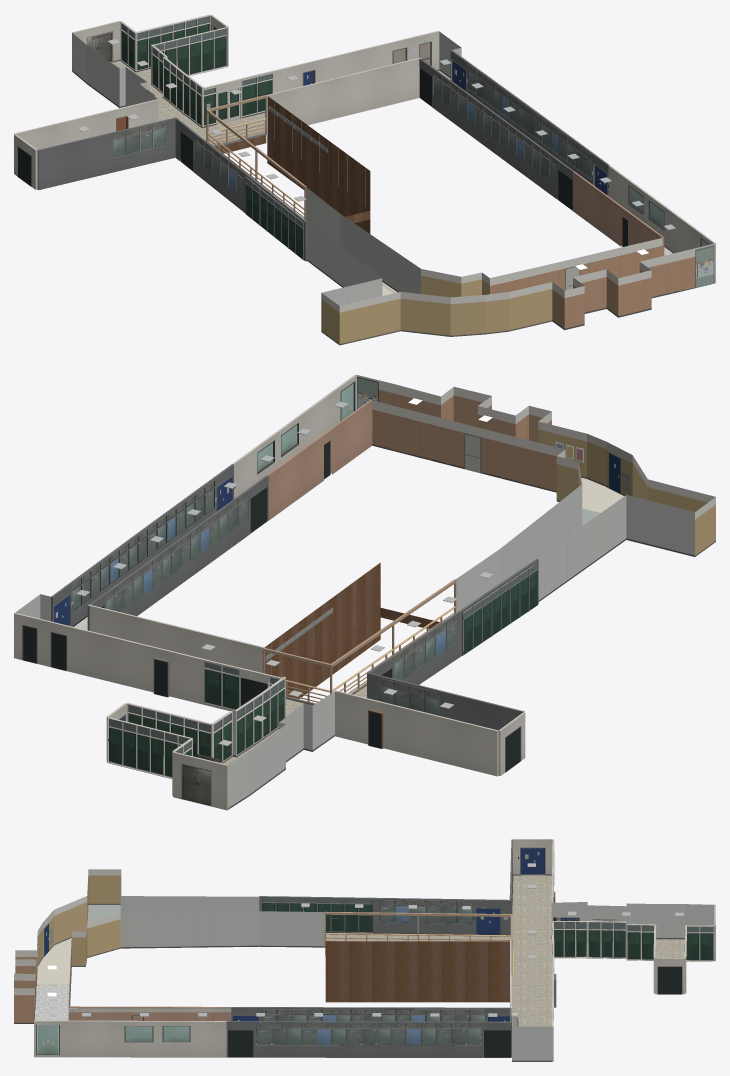
File: abc-corridor-2c2d1388.glb
The picture shows the model from 3 angles, top to bottom: view 1: azimuth 30°, elevation 25°; view 2: azimuth 150°, elevation 25°; view 3: azimuth 270°, elevation 25°; orthographic projection. The views are drawn at different scales.
Parts seen in each view (by area): view 1: ABC | Oat wall, ABC | Graphite panels, Surveyed side passages2, ABC | Green glass, Lobby ochre and artworks0, Atrium | opposite timber wall, Lobby ochre and artworks2, Short passage inner wall0, ABC | Anodized face, Short passage and lobby finishes0, ABC | Dark gasket, ABC | Pearl mullion (+17 smaller); view 2: ABC | Oat wall, Surveyed side passages2, ABC | Graphite panels, ABC | Green glass, Short passage inner wall0, Atrium | opposite timber wall, ABC | Dark gasket, ABC | Flush oak, Lobby ochre and artworks0, Surveyed side passages0, ABC | Anodized face, ABC | Pearl mullion (+19 smaller); view 3: Surveyed side passages2, Atrium | opposite timber wall, ABC | Oat wall, ABC | Graphite panels, Survey floor | stone, ABC | Green glass, Lobby ochre and artworks2, ABC | Anodized face, ABC | Dark gasket, ABC | Upper glass, railcentral wall, ABC | Classroom glass C (+19 smaller).
Part boxes in pixels (<box>): ABC | Oat wall: <box>14,15,715,283</box>; ABC | Graphite panels: <box>37,50,609,261</box>; Surveyed side passages2: <box>72,31,460,293</box>; ABC | Green glass: <box>121,24,302,259</box>; Lobby ochre and artworks0: <box>339,272,552,345</box>; Atrium | opposite timber wall: <box>267,96,370,233</box>; Lobby ochre and artworks2: <box>321,269,489,344</box>; Short passage inner wall0: <box>490,238,662,294</box>; ABC | Anodized face: <box>17,24,607,260</box>; Short passage and lobby finishes0: <box>564,269,651,329</box>; ABC | Dark gasket: <box>18,19,709,246</box>; ABC | Pearl mullion: <box>120,14,272,126</box>; ABC | Oat wall: <box>14,374,525,810</box>; Surveyed side passages2: <box>15,484,626,809</box>; ABC | Graphite panels: <box>51,464,538,730</box>; ABC | Green glass: <box>109,570,537,776</box>; Short passage inner wall0: <box>372,400,564,492</box>; Atrium | opposite timber wall: <box>265,562,380,698</box>; ABC | Dark gasket: <box>23,381,520,771</box>; ABC | Flush oak: <box>267,400,372,520</box>; Lobby ochre and artworks0: <box>538,421,715,511</box>; Surveyed side passages0: <box>40,495,694,757</box>; ABC | Anodized face: <box>53,475,538,772</box>; ABC | Pearl mullion: <box>107,666,285,795</box>; Surveyed side passages2: <box>120,896,714,1061</box>; Atrium | opposite timber wall: <box>325,941,509,1002</box>; ABC | Oat wall: <box>34,839,715,1061</box>; ABC | Graphite panels: <box>226,839,512,1057</box>; Survey floor | stone: <box>326,875,684,1026</box>; ABC | Green glass: <box>262,903,713,959</box>; Lobby ochre and artworks2: <box>54,869,121,966</box>; ABC | Anodized face: <box>227,847,682,1057</box>; ABC | Dark gasket: <box>36,848,681,1057</box>; ABC | Upper glass: <box>257,900,484,1028</box>; railcentral wall: <box>259,911,324,947</box>; ABC | Classroom glass C: <box>257,906,454,1045</box>.
Bounding box in the file's own units: 30.14 × 4.7 × 47.76.
Materials: 81 (36 with a texture image).
